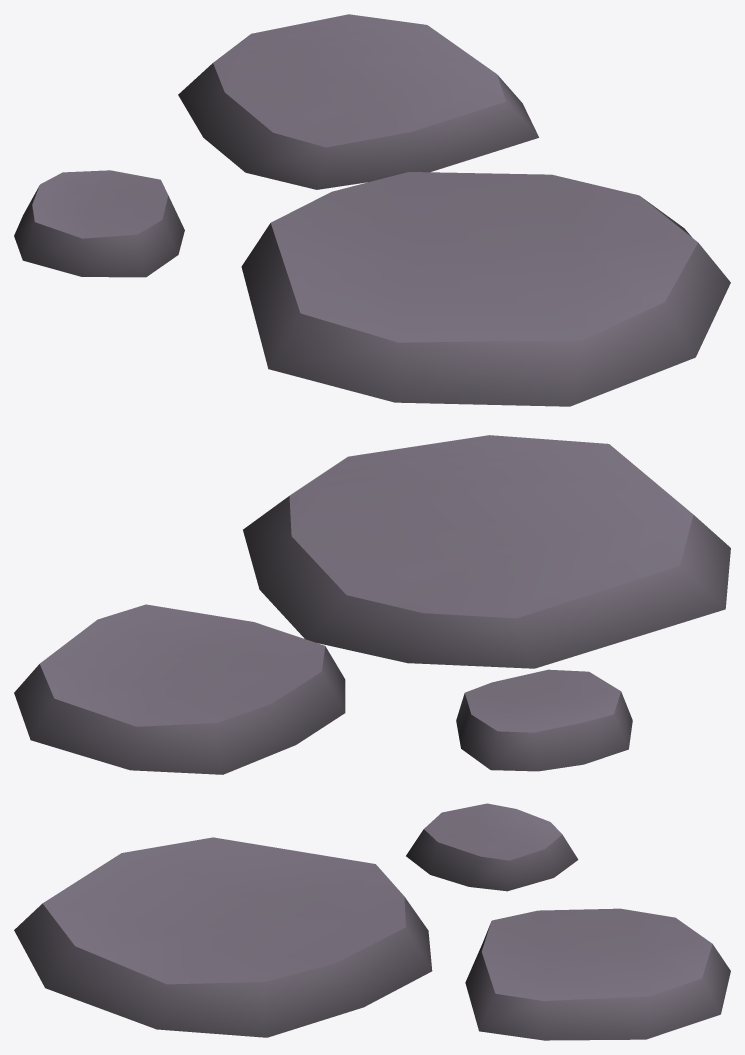
File: gravel_2.glb
3 renders of one model, top to bottom at view 1: azimuth 30°, elevation 25°; view 2: azimuth 150°, elevation 25°; view 3: azimuth 270°, elevation 25°, orthographic. The views are drawn at different scales.
Parts seen in each view (by area): view 1: gravel_2; view 2: gravel_2; view 3: gravel_2.
Boxes of the visible parts, x1,y1,x2,y2 form: gravel_2: (14, 14, 730, 406); gravel_2: (14, 435, 730, 774); gravel_2: (14, 803, 730, 1040).
Size of the model in its own units: 0.9932 by 0.0856 by 1.4.
Materials: 1 (1 with a texture image).
